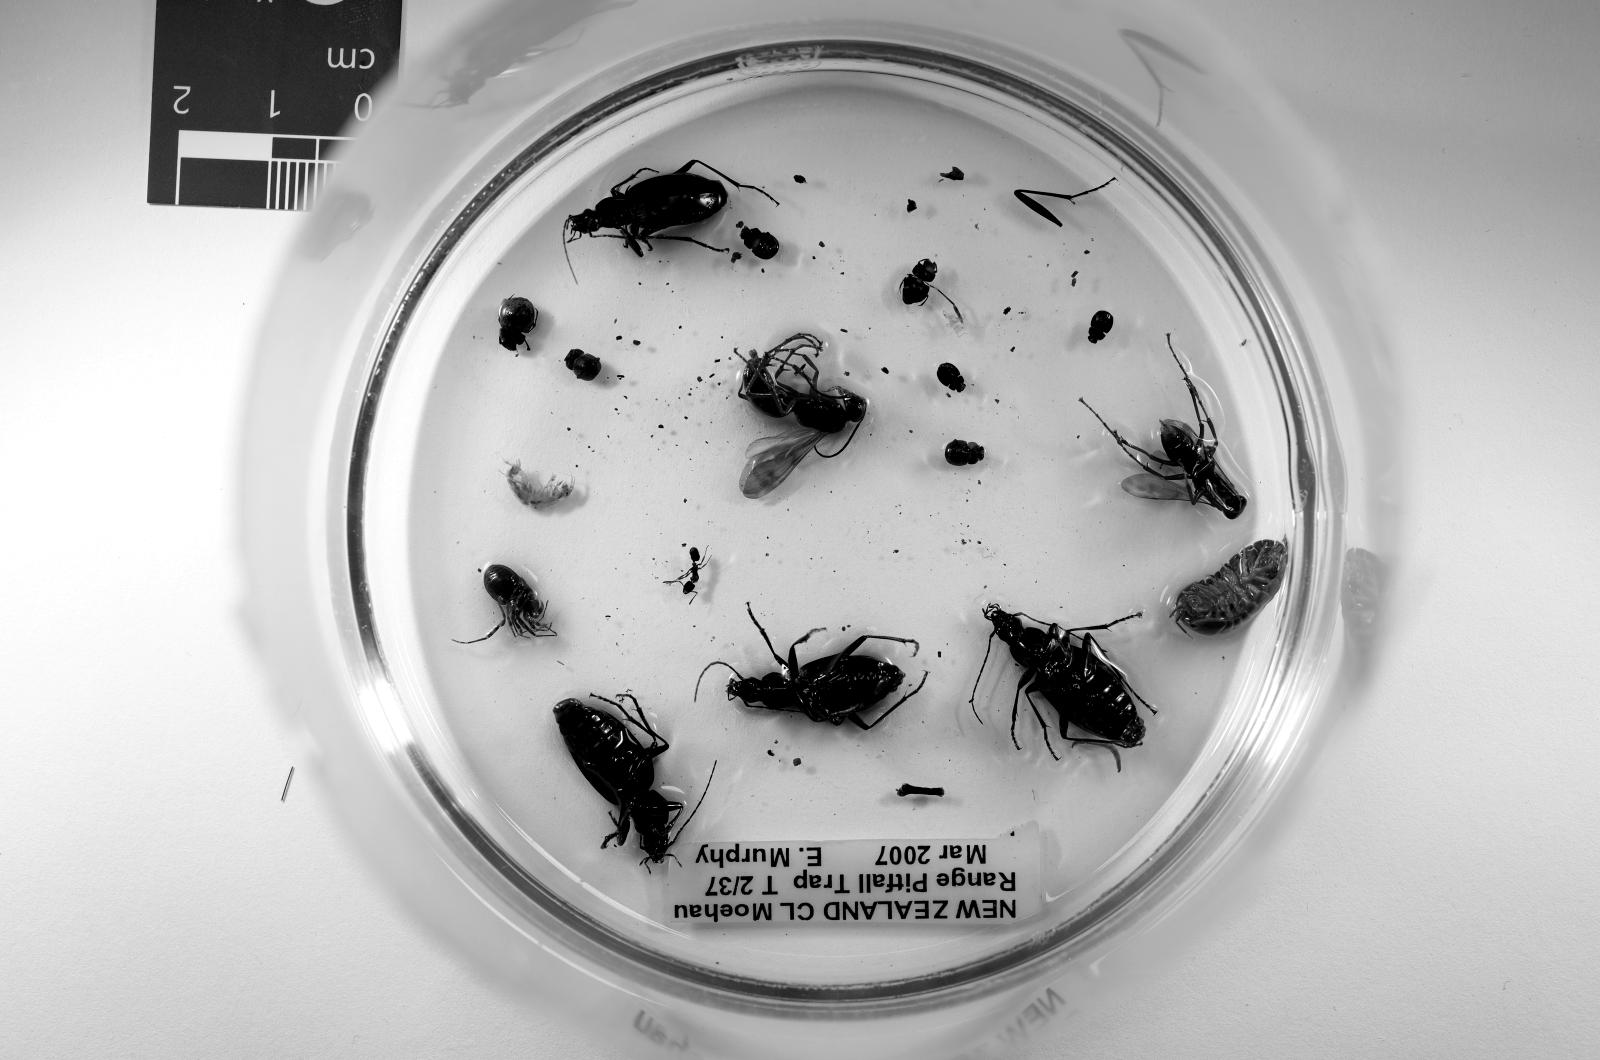amphipoda: (506, 463, 575, 506)
carabidae: (706, 602, 928, 730), (984, 602, 1147, 749), (553, 692, 685, 864), (563, 159, 728, 258)
coleoptera: (497, 295, 538, 351), (900, 258, 938, 304), (738, 224, 778, 260), (565, 348, 600, 382), (944, 441, 984, 466), (1088, 310, 1113, 344), (938, 363, 966, 392)
formicidae: (666, 547, 706, 596)
hymenoptera: (1100, 338, 1246, 518), (740, 332, 866, 497)
isopoda: (1172, 541, 1288, 634)
opiliones: (468, 565, 556, 642)
